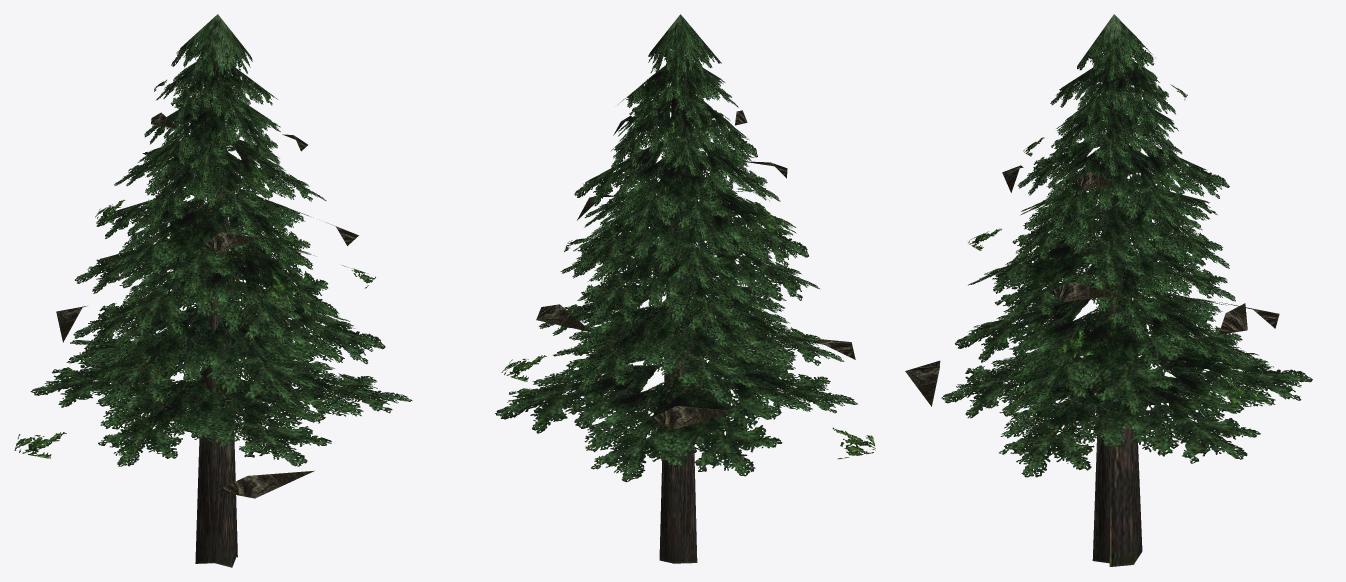
File: pine.glb
3 renders of one model, left to right at view 1: azimuth 30°, elevation 25°; view 2: azimuth 150°, elevation 25°; view 3: azimuth 270°, elevation 25°, orthographic.
Parts seen in each view (by area): view 1: pine_part0; view 2: pine_part0; view 3: pine_part0.
Part boxes in pixels (x1=…): pine_part0: x1=14, y1=14, x2=412, y2=567; pine_part0: x1=495, y1=14, x2=875, y2=563; pine_part0: x1=905, y1=14, x2=1312, y2=566.
Size of the model in its own units: 3.25 by 4.8 by 3.41.
Materials: 1 (1 with a texture image).
